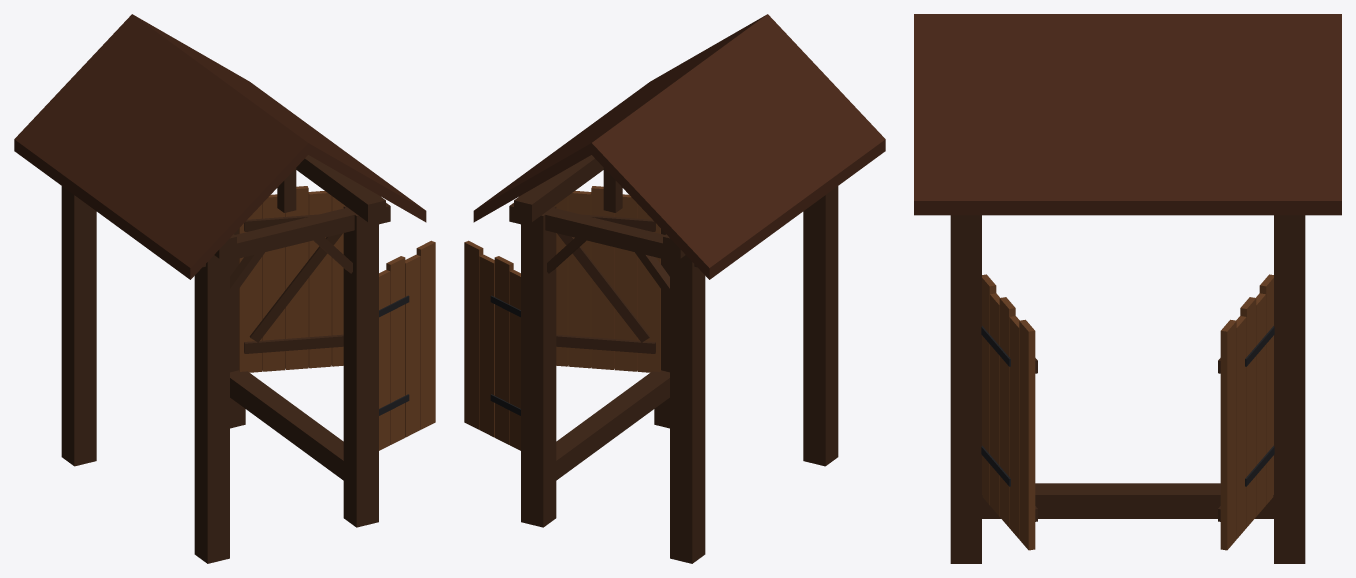
File: Porton.glb
The picture shows the model from 3 angles, left to right: view 1: azimuth 30°, elevation 25°; view 2: azimuth 150°, elevation 25°; view 3: azimuth 270°, elevation 25°; orthographic projection. The views are drawn at different scales.
Visible parts, largest first — view 1: Porton, PortonHojaDer, PortonHojaIzq; view 2: Porton, PortonHojaIzq, PortonHojaDer; view 3: Porton, PortonHojaDer, PortonHojaIzq.
Part boxes in pixels (<box>): Porton: <box>14,14,426,563</box>; PortonHojaDer: <box>239,186,345,372</box>; PortonHojaIzq: <box>379,240,435,450</box>; Porton: <box>473,14,885,563</box>; PortonHojaIzq: <box>554,186,660,372</box>; PortonHojaDer: <box>464,240,520,450</box>; Porton: <box>914,14,1341,563</box>; PortonHojaDer: <box>1218,274,1274,550</box>; PortonHojaIzq: <box>981,274,1037,550</box>.
Size of the model in its own units: 5.89 by 7.92 by 6.15.
